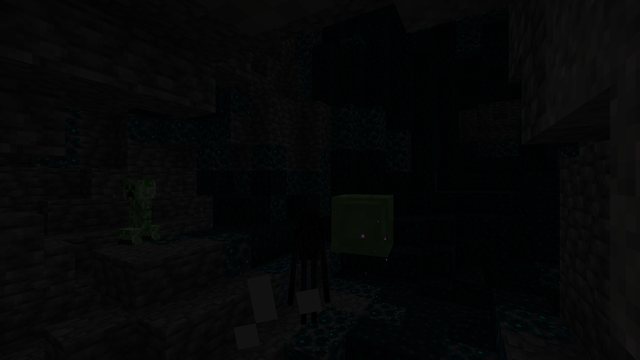creepers: (121, 176, 157, 244)
endermens: (292, 206, 324, 331)
slimes: (327, 192, 396, 258)
